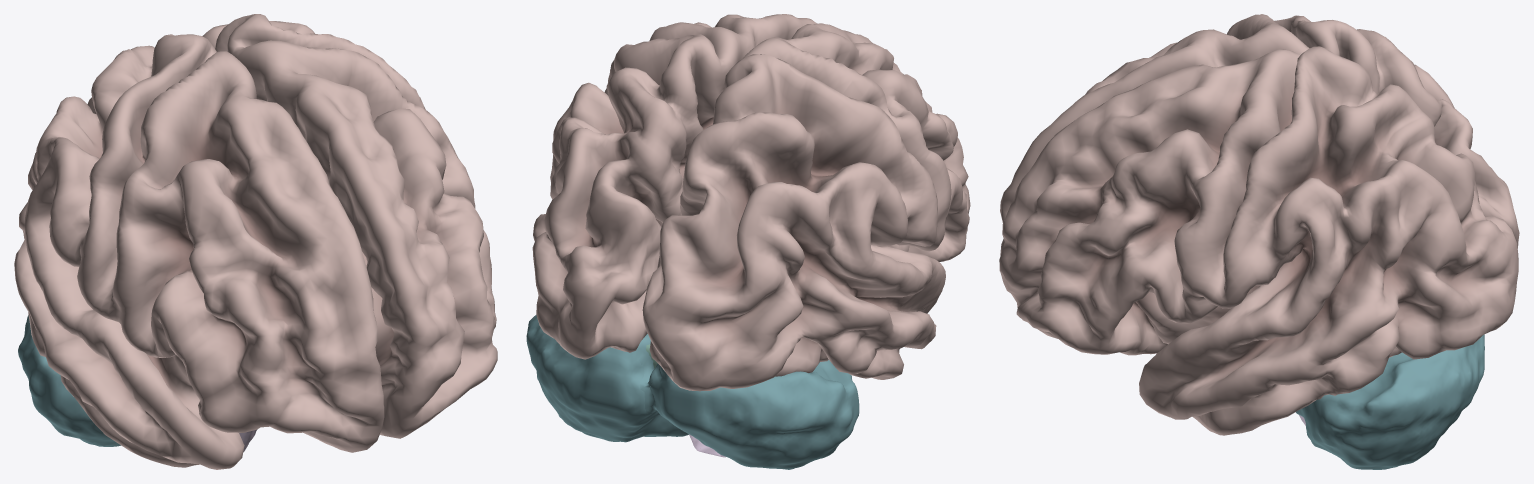
Rendered from brain_mni152.glb.
3 renders of one model, left to right at view 1: azimuth 30°, elevation 25°; view 2: azimuth 150°, elevation 25°; view 3: azimuth 270°, elevation 25°, orthographic. The views are drawn at different scales.
Visible parts, largest first — view 1: Hemisphere_Left, Hemisphere_Right, Cerebellum_L; view 2: Hemisphere_Left, Hemisphere_Right, Cerebellum_L, Cerebellum_R, Cerebellum; view 3: Hemisphere_Right, Hemisphere_Left, Cerebellum_R.
Boxes of the visible parts, x1=… form: Hemisphere_Left: x1=14, y1=34, x2=384, y2=469; Hemisphere_Right: x1=202, y1=14, x2=497, y2=438; Cerebellum_L: x1=18, y1=315, x2=120, y2=446; Hemisphere_Left: x1=642, y1=23, x2=970, y2=391; Hemisphere_Right: x1=532, y1=14, x2=816, y2=359; Cerebellum_L: x1=650, y1=360, x2=859, y2=469; Cerebellum_R: x1=526, y1=315, x2=684, y2=442; Cerebellum: x1=599, y1=334, x2=708, y2=446; Hemisphere_Right: x1=999, y1=46, x2=1518, y2=435; Hemisphere_Left: x1=1000, y1=14, x2=1519, y2=255; Cerebellum_R: x1=1296, y1=334, x2=1484, y2=469.
Bounding box in the file's own units: 3.33 × 3.59 × 4.17.
